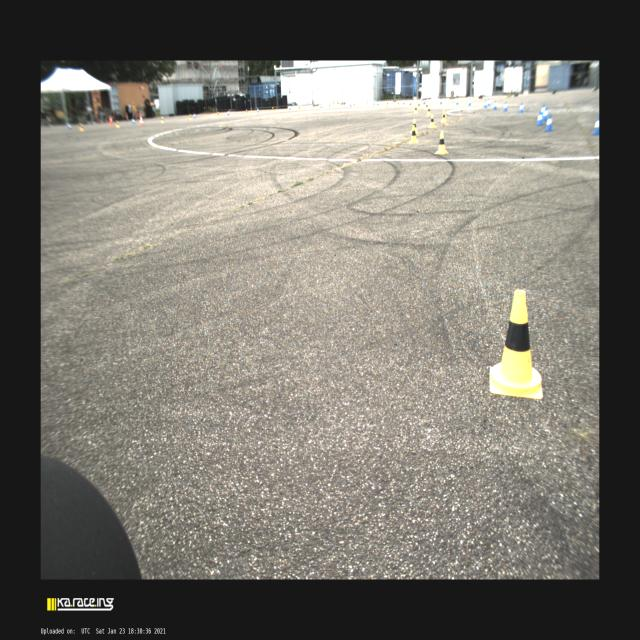blue_cone: (544, 114, 554, 132), (591, 114, 599, 136), (536, 111, 544, 126), (542, 108, 550, 121), (540, 104, 546, 117), (518, 102, 524, 114), (502, 101, 508, 112), (492, 100, 497, 110), (67, 122, 73, 130), (486, 98, 491, 106), (483, 100, 487, 110), (132, 118, 136, 126), (468, 98, 472, 106), (455, 98, 459, 106), (438, 97, 442, 105), (422, 98, 426, 106), (402, 98, 406, 105), (375, 100, 379, 106), (256, 107, 260, 113), (192, 113, 196, 119), (227, 110, 230, 116), (288, 105, 291, 110), (320, 102, 322, 109)
large_orange_cone: (138, 114, 144, 125), (108, 115, 114, 126)
yellow_cone: (490, 290, 543, 400), (434, 130, 448, 154), (408, 125, 418, 144), (411, 118, 418, 134), (428, 115, 436, 128), (441, 112, 447, 124), (424, 101, 430, 111), (413, 104, 419, 114), (78, 123, 85, 131), (426, 107, 432, 116), (384, 100, 390, 108), (417, 100, 421, 110), (408, 100, 413, 108), (396, 100, 401, 108), (352, 100, 357, 108), (160, 116, 165, 124), (372, 100, 376, 108), (328, 102, 332, 110), (188, 113, 192, 121), (116, 120, 120, 128), (216, 111, 220, 118), (297, 104, 301, 110), (270, 106, 274, 112), (244, 110, 248, 115)
